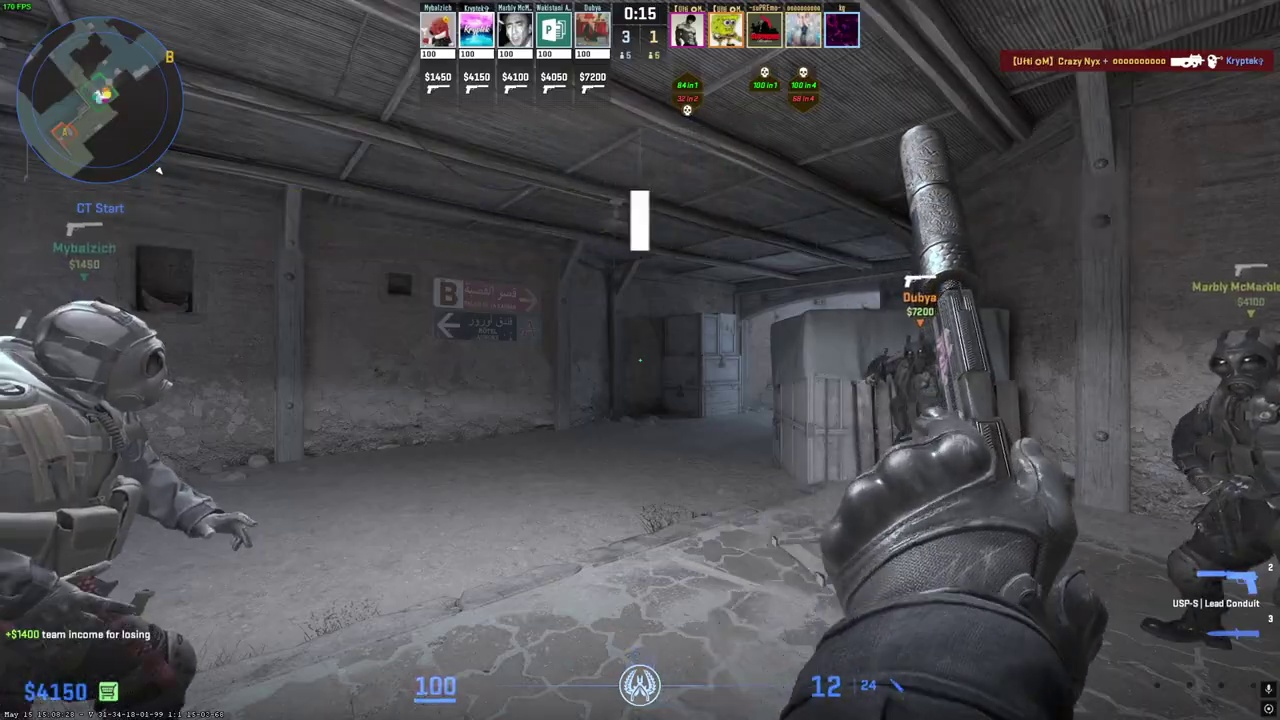CT: (0, 295, 220, 720), (1142, 328, 1280, 648), (882, 331, 941, 446)
